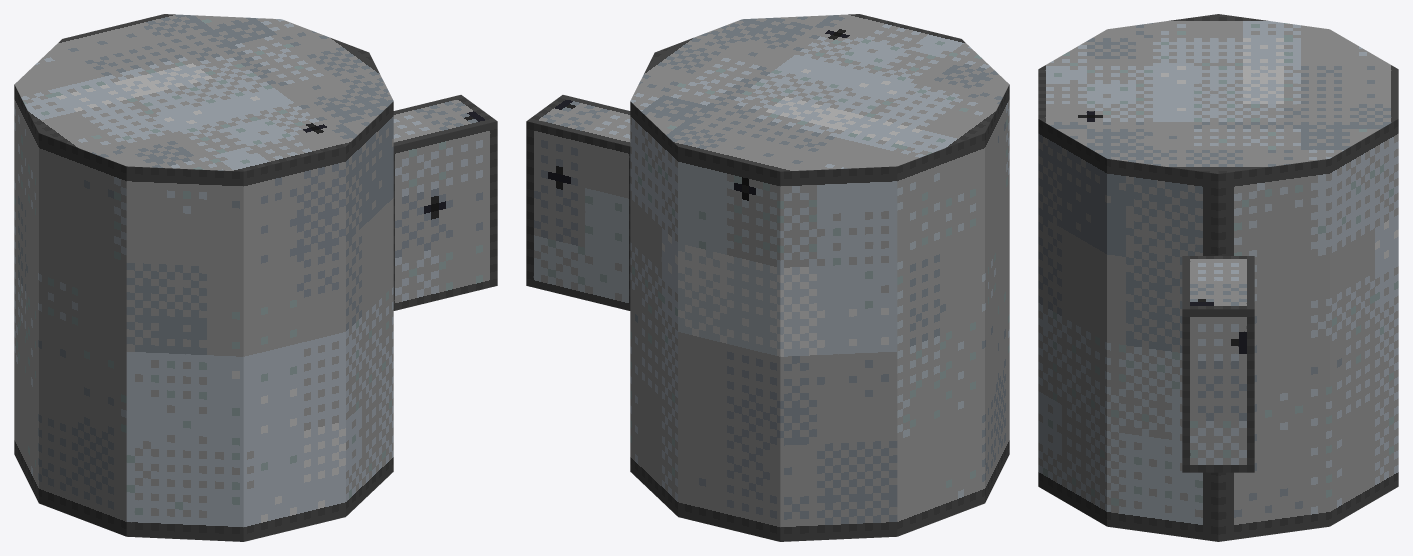
The model's file is SM_Mug_Enamel_01.glb.
3 renders of one model, left to right at view 1: azimuth 30°, elevation 25°; view 2: azimuth 150°, elevation 25°; view 3: azimuth 270°, elevation 25°, orthographic.
Visible parts, largest first — view 1: SM_Mug_Enamel_01; view 2: SM_Mug_Enamel_01; view 3: SM_Mug_Enamel_01.
Boxes of the visible parts, left/top/right/bottom form: SM_Mug_Enamel_01: left=14, top=14, right=497, bottom=541; SM_Mug_Enamel_01: left=526, top=14, right=1009, bottom=541; SM_Mug_Enamel_01: left=1038, top=14, right=1398, bottom=541.
Size of the model in its own units: 0.112 by 0.09 by 0.0799.
Materials: 1 (1 with a texture image).
